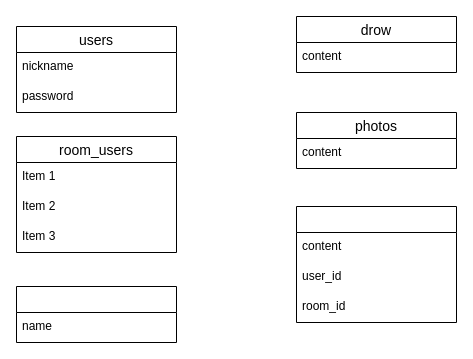
This 473x359 diagram has some shape labels left out. The shapes that lost their labels are listed below. From the top down, each one's box as (x1, y1, x2, y2) in pixels, then its label:
(296, 206, 456, 322): messages
(16, 286, 176, 342): rooms
